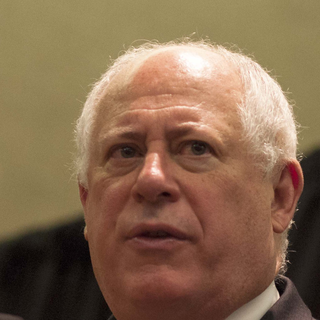eye: (174, 138, 221, 162), (102, 139, 146, 164)
